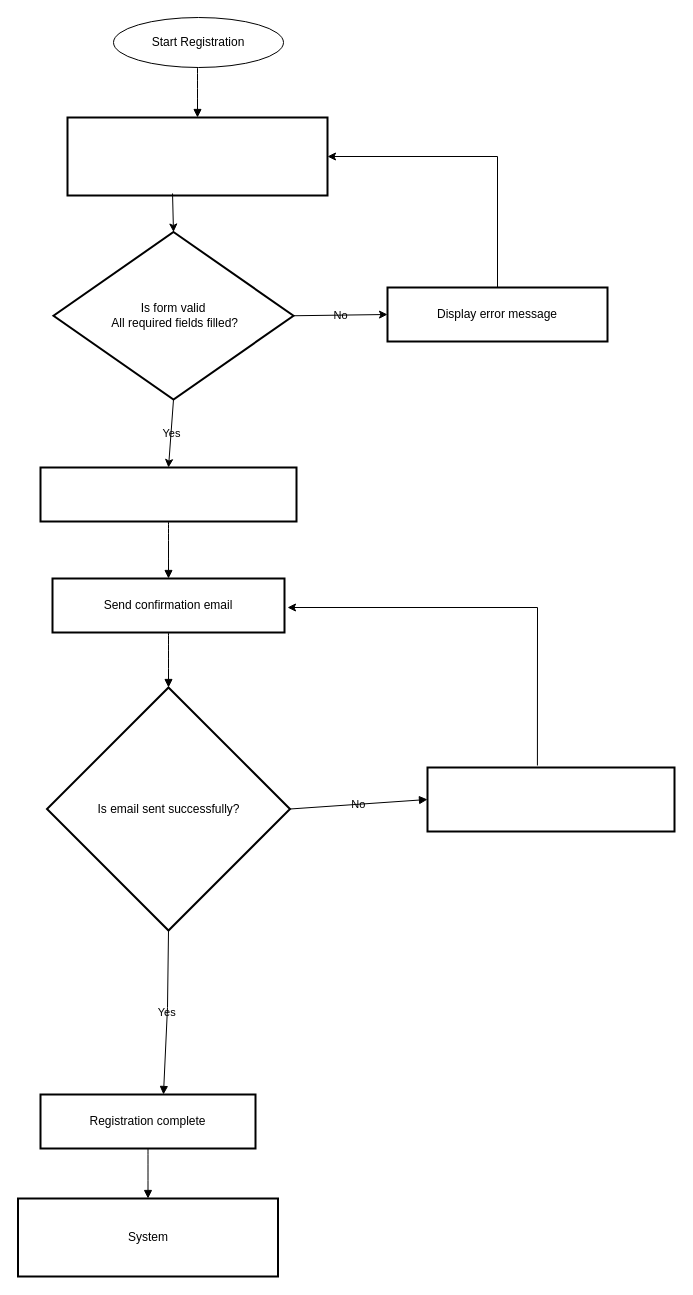
Image size: 693x1295. Some labels were removed from this diagram. The centre of each missing label's shape, as x and y in pixels:
"Log error and notify admin" belongs at [550,799].
"Save user data to database" belongs at [168,494].
"User fills out registration form" belongs at [197,156].
